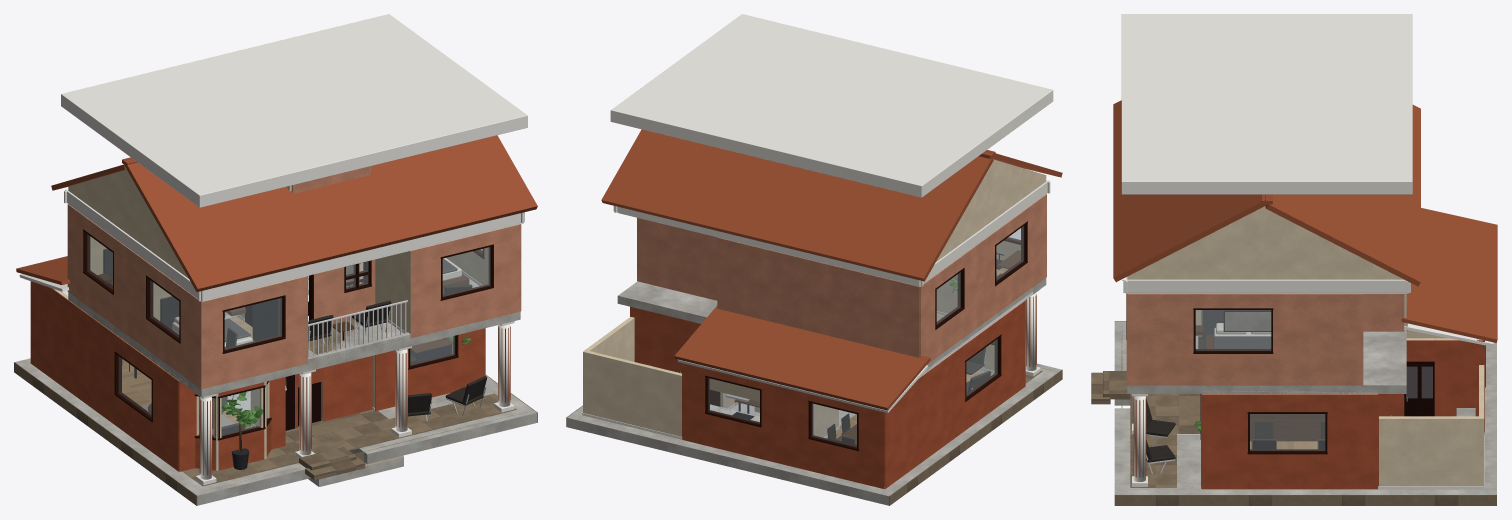
The model's file is apartment.glb.
The picture shows the model from 3 angles, left to right: view 1: azimuth 30°, elevation 25°; view 2: azimuth 150°, elevation 25°; view 3: azimuth 270°, elevation 25°; orthographic projection. The views are drawn at different scales.
Visible parts, largest first — view 1: Cornice, Roof_S, Clad_W_L0_36, Gable_W, Slab_0, Floor_porch, BandS, Slab_3, Clad_W_L1_26, Clad_S_L1_08, Clad_S_L0_24, Clad_W_L0_37 (+51 smaller); view 2: Cornice, Roof_N, Clad_N_L1_00, Roof_leanto, Clad_W_L0_36, Wall_N_L0_09, Clad_N_L1_02, Slab_0, Clad_N_L0_01, Gable_W, Clad_N_L0_45, Clad_W_L1_26 (+28 smaller); view 3: Cornice, Gable_E, Roof_leanto, Roof_N, Roof_S, Clad_E_L1_03, Wall_E_L0_10, Clad_E_L1_04, Slab1_3, Clad_E_L0_11, Clad_E_L0_12, StoneBase_E (+27 smaller).
Boxes of the visible parts, left/top/right/bottom form: Cornice: left=61, top=14, right=527, bottom=207; Roof_S: left=124, top=135, right=537, bottom=291; Clad_W_L0_36: left=30, top=281, right=115, bottom=425; Gable_W: left=68, top=169, right=188, bottom=278; Slab_0: left=15, top=358, right=310, bottom=505; Floor_porch: left=284, top=393, right=516, bottom=454; BandS: left=198, top=212, right=524, bottom=301; Slab_3: left=349, top=398, right=537, bottom=464; Clad_W_L1_26: left=113, top=237, right=147, bottom=349; Clad_S_L1_08: left=410, top=243, right=441, bottom=338; Clad_S_L0_24: left=322, top=356, right=372, bottom=421; Clad_W_L0_37: left=152, top=362, right=179, bottom=471; Cornice: left=610, top=14, right=1053, bottom=197; Roof_N: left=601, top=129, right=993, bottom=281; Clad_N_L1_00: left=717, top=237, right=919, bottom=357; Roof_leanto: left=674, top=306, right=930, bottom=410; Clad_W_L0_36: left=885, top=344, right=965, bottom=488; Wall_N_L0_09: left=583, top=351, right=681, bottom=436; Clad_N_L1_02: left=637, top=218, right=717, bottom=300; Slab_0: left=752, top=363, right=1061, bottom=505; Clad_N_L0_01: left=760, top=382, right=809, bottom=470; Gable_W: left=936, top=159, right=1046, bottom=261; Clad_N_L0_45: left=630, top=307, right=700, bottom=373; Clad_W_L1_26: left=963, top=232, right=995, bottom=337; Cornice: left=1121, top=14, right=1412, bottom=194; Gable_E: left=1127, top=206, right=1403, bottom=279; Roof_leanto: left=1401, top=208, right=1497, bottom=342; Roof_N: left=1265, top=105, right=1420, bottom=286; Roof_S: left=1113, top=100, right=1268, bottom=282; Clad_E_L1_03: left=1271, top=294, right=1362, bottom=385; Wall_E_L0_10: left=1379, top=416, right=1483, bottom=486; Clad_E_L1_04: left=1127, top=294, right=1194, bottom=385; Slab1_3: left=1127, top=331, right=1406, bottom=393; Clad_E_L0_11: left=1326, top=394, right=1377, bottom=489; Clad_E_L0_12: left=1202, top=394, right=1249, bottom=489; StoneBase_E: left=1114, top=495, right=1496, bottom=505.
Bounding box in the file's own units: 10.64 × 10.13 × 10.47.
Materials: 43 (23 with a texture image).
